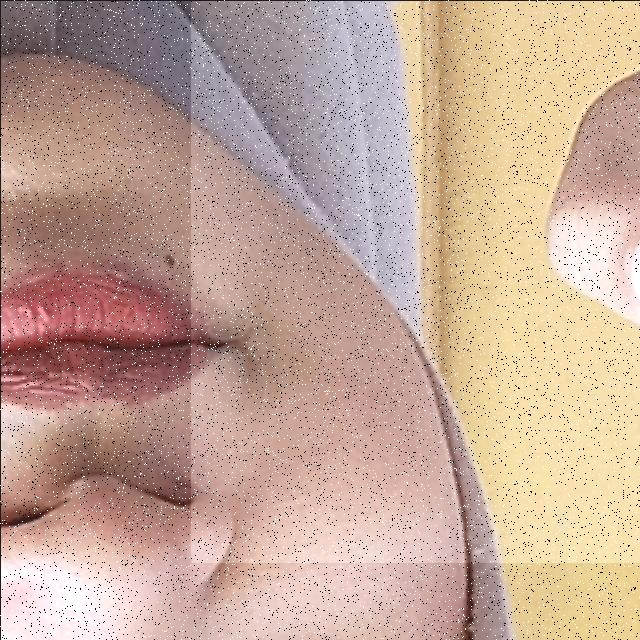baik: (190, 0, 640, 562)
